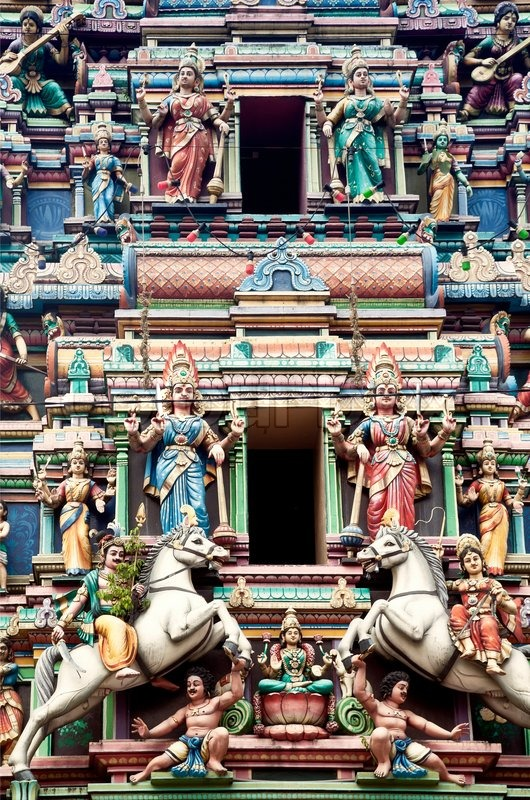Hindu Temple: (2, 3, 518, 800)
